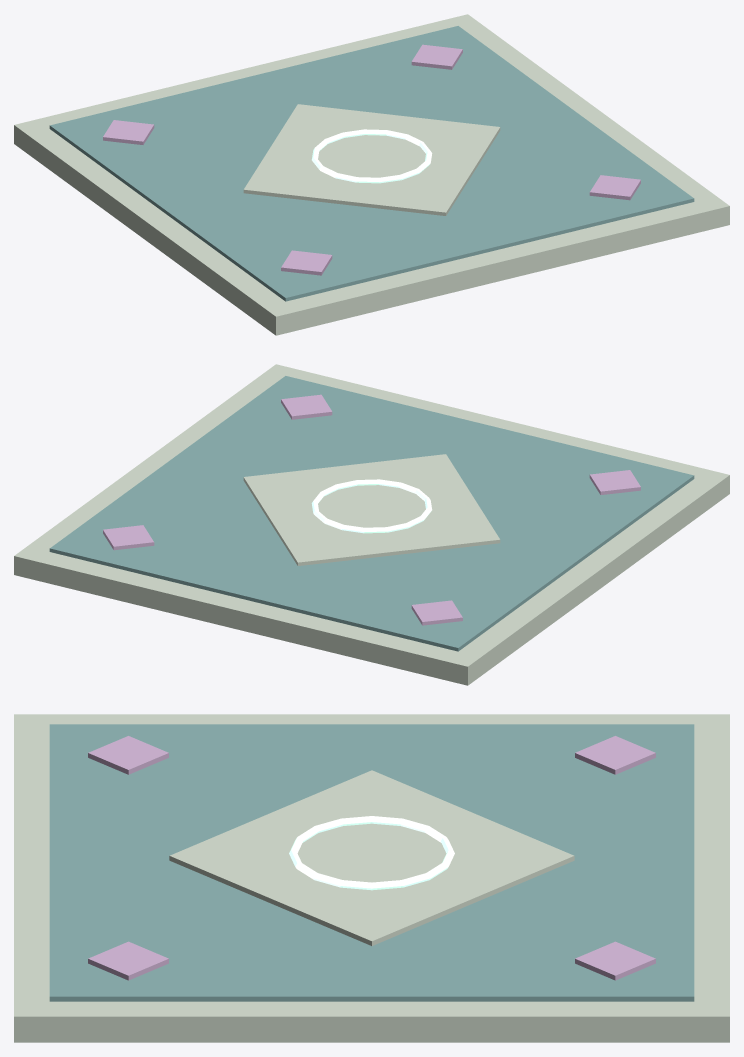
Rendered from runestone-conservatory-botanical-mosaic-floor__104.glb.
3 renders of one model, top to bottom at view 1: azimuth 30°, elevation 25°; view 2: azimuth 150°, elevation 25°; view 3: azimuth 270°, elevation 25°, orthographic. The views are drawn at different scales.
Visible parts, largest first — view 1: runestone-conservatory-mosaic-floor; view 2: runestone-conservatory-mosaic-floor; view 3: runestone-conservatory-mosaic-floor.
Part boxes in pixels (x1,y1,x2,y2): runestone-conservatory-mosaic-floor: (14, 14, 729, 335); runestone-conservatory-mosaic-floor: (14, 364, 729, 685); runestone-conservatory-mosaic-floor: (14, 714, 729, 1042).
Size of the model in its own units: 2 by 0.1274 by 2.
